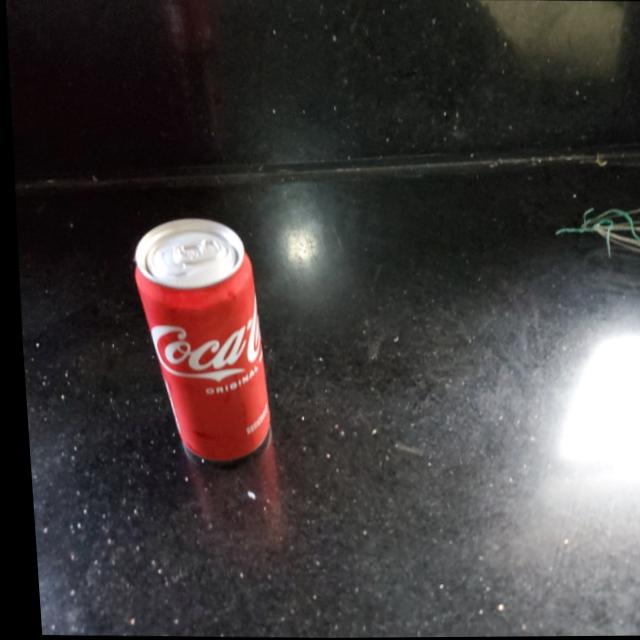coke: (120, 215, 266, 460)
